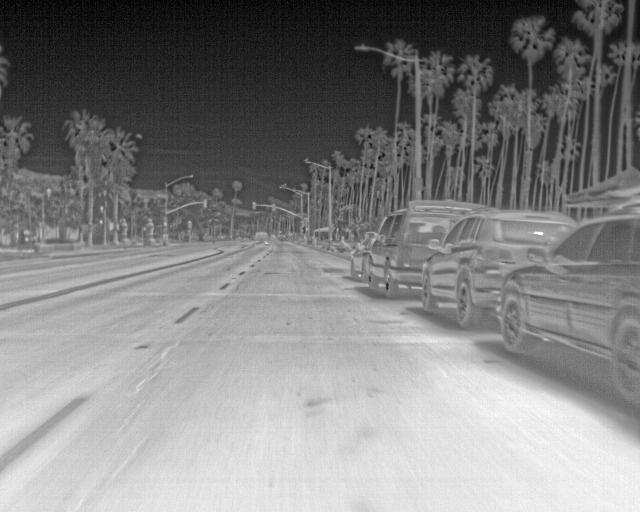bicycle: (500, 213, 639, 407), (420, 211, 577, 328), (365, 198, 488, 297), (350, 230, 379, 282), (254, 231, 269, 245)
